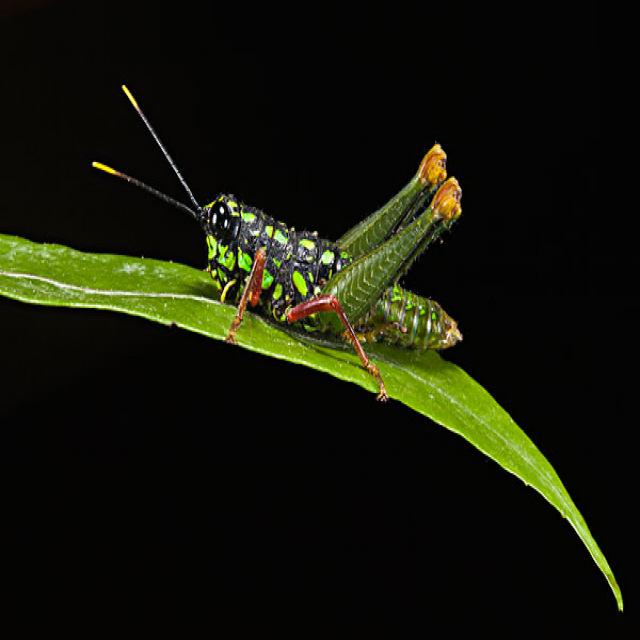ZhaMeng: (182, 162, 501, 384)
